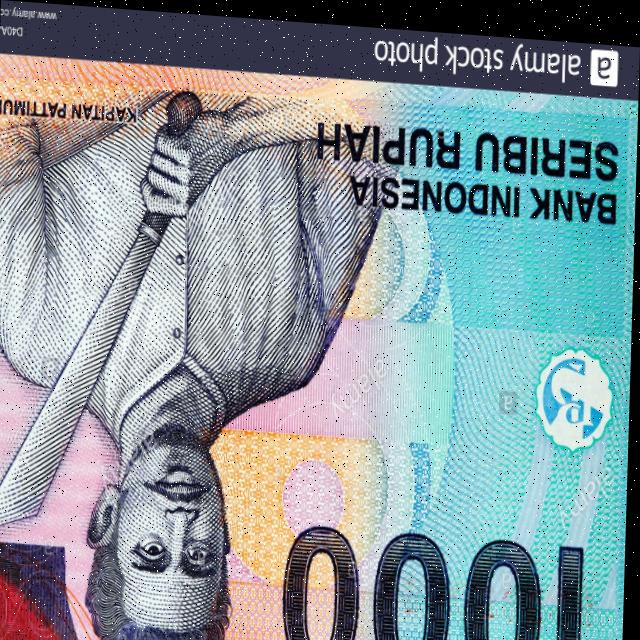1000IndonesianRupiah: (0, 55, 639, 640)
